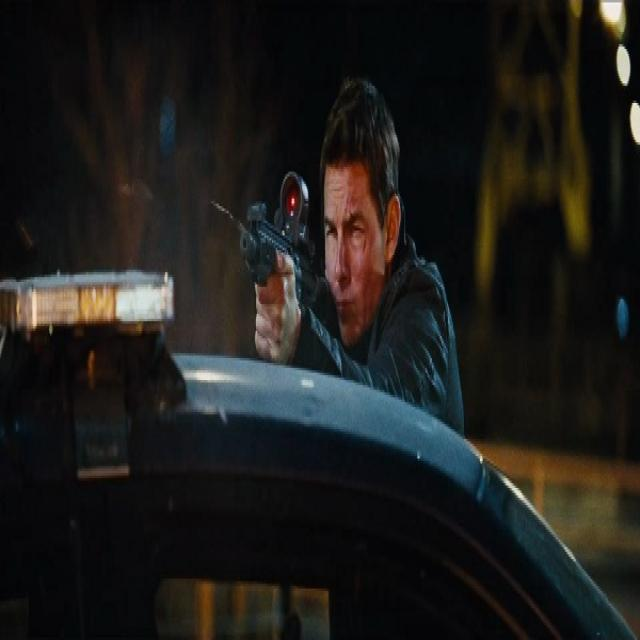rifle: (242, 166, 333, 323)
